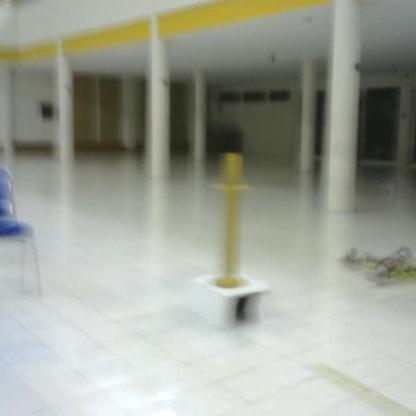pole: (208, 149, 257, 297)
